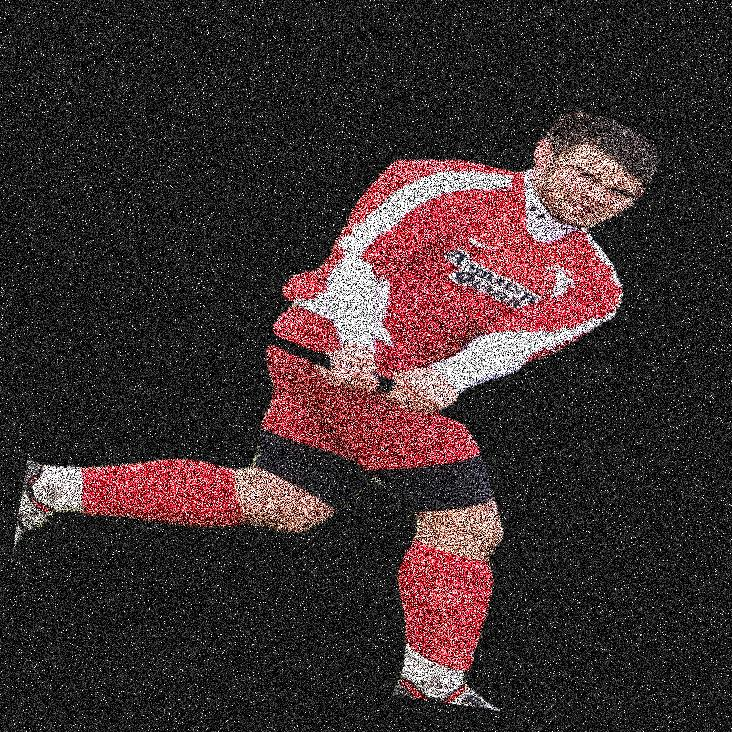Pessoa: (400, 0, 509, 731)
